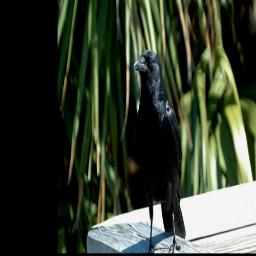Crow: (134, 49, 186, 252)
